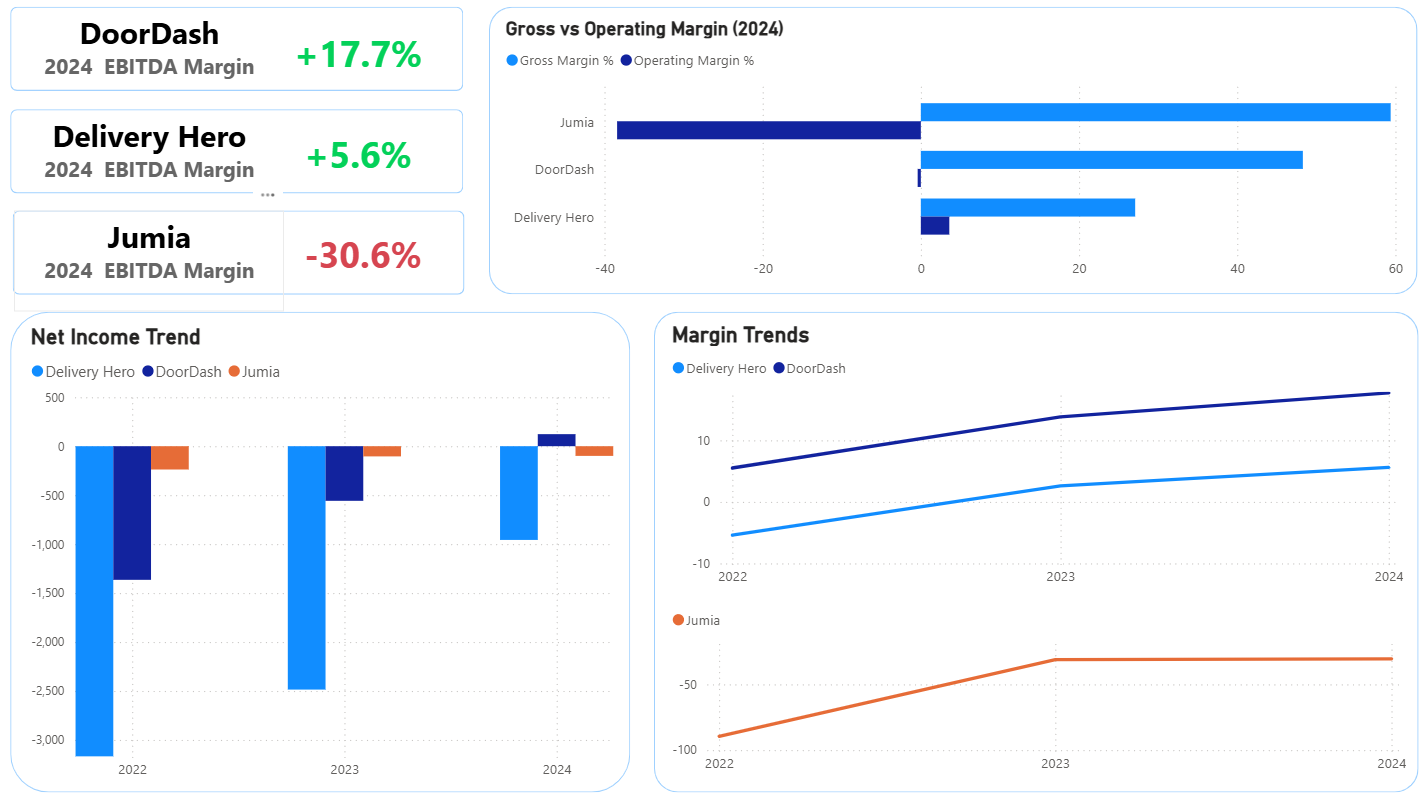

Layout of this report page (visuals, bound fields, positions):
{"tool":"powerbi","page":{"name":"Profitability Trajectory","canvas":[1280,720],"ordinal":1},"visuals":[{"type":"shape","box":[587.7,283.4,681,428.2],"z":0},{"type":"lineChart","title":"Margin Trends","fields":{"Series":["Master Data.Company"],"Category":["Master Data.Year"],"Y":["Sum(Master Data.EBITDA_Margin_Pct)"]},"box":[598.8,293.3,661.4,245.4],"z":1000},{"type":"shape","box":[440.9,12.5,826.9,256.1],"z":2000},{"type":"lineChart","title":"Margin Trends","fields":{"Category":["Master Data.Year"],"Series":["Master Data.Company"],"Y":["Sum(Master Data.EBITDA_Margin_Pct)"]},"box":[598.8,538.7,663.8,165.6],"z":3000},{"type":"clusteredBarChart","title":"Gross vs Operating Margin (2024)","fields":{"Category":["Master Data.Company"],"Y":["Sum(Master Data.Gross_Margin_Pct)","Sum(Master Data.Operating_Margin_Pct)"]},"box":[450.9,21.2,809.4,242],"z":4000},{"type":"shape","box":[14.7,283.4,552.2,428.2],"z":5000},{"type":"clusteredColumnChart","title":"Net Income Trend ","fields":{"Category":["Master Data.Year"],"Series":["Master Data.Company"],"Y":["Sum(Master Data.Net_Income_USD)"]},"box":[28.2,294.5,528.8,414.7],"z":6000},{"type":"shape","box":[15,12.5,403.4,74.9],"z":7000},{"type":"shape","box":[15,103.7,403.4,74.9],"z":8000},{"type":"shape","box":[16.2,193.6,402.2,74.9],"z":9000},{"type":"textbox","box":[17.5,12.5,241.1,74.9],"z":10000},{"type":"textbox","box":[17.5,103.7,241.1,73.7],"z":11000},{"type":"textbox","box":[241.1,26.2,164.9,61.2],"z":12000},{"type":"textbox","box":[241.1,117.4,165,57],"z":13000},{"type":"textbox","box":[17.5,193.6,241.1,89.9],"z":14000},{"type":"textbox","box":[241.1,206.1,165,57],"z":15000}]}

Visuals, with their boxes in screenshot pixels (x1, y1, x2, y2), scaled from the page's 1280x720 canvas onto the 1425x796 screenshot:
shape: bbox=[654, 313, 1412, 787]
"Margin Trends" lineChart: bbox=[667, 324, 1403, 596]
shape: bbox=[491, 14, 1411, 297]
"Margin Trends" lineChart: bbox=[667, 596, 1406, 779]
"Gross vs Operating Margin (2024)" clusteredBarChart: bbox=[502, 23, 1403, 291]
shape: bbox=[16, 313, 631, 787]
"Net Income Trend " clusteredColumnChart: bbox=[31, 326, 620, 784]
shape: bbox=[17, 14, 466, 97]
shape: bbox=[17, 115, 466, 197]
shape: bbox=[18, 214, 466, 297]
textbox: bbox=[19, 14, 288, 97]
textbox: bbox=[19, 115, 288, 196]
textbox: bbox=[268, 29, 452, 97]
textbox: bbox=[268, 130, 452, 193]
textbox: bbox=[19, 214, 288, 313]
textbox: bbox=[268, 228, 452, 291]
